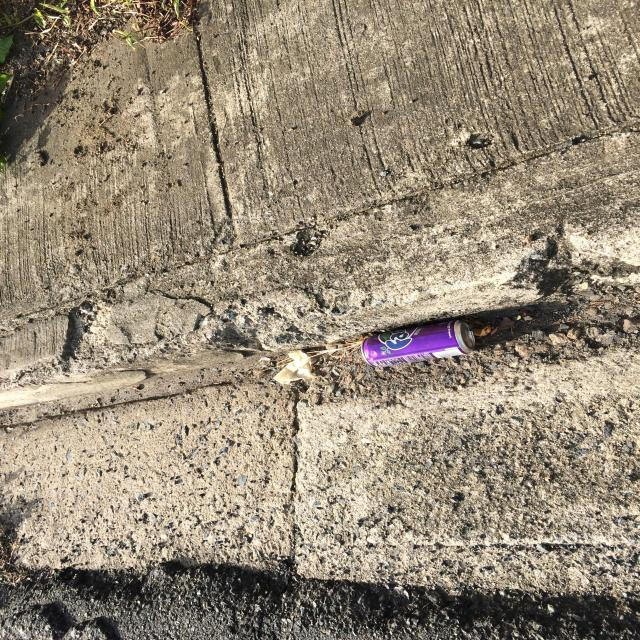litter: (363, 271, 427, 357)
